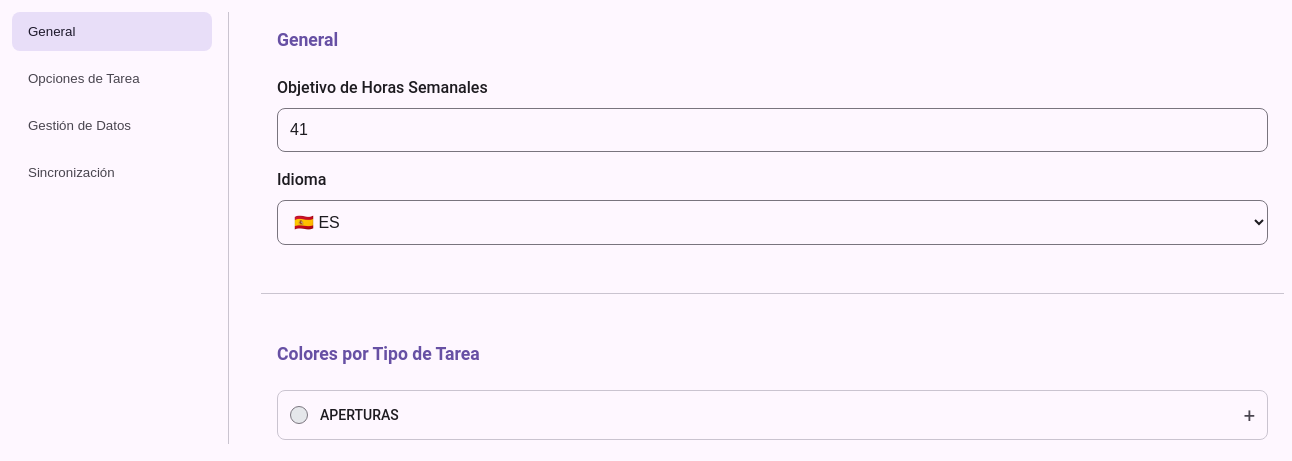
Test: Settings.svelte › should show error for value less than 1
The width and height of the screenshot is (1292, 461).
Replace the text in the number field labelled "Objetivo de Horas Semanales" with "0": {"x": 772, "y": 130} [277, 108, 1268, 152]
(page scrolled)
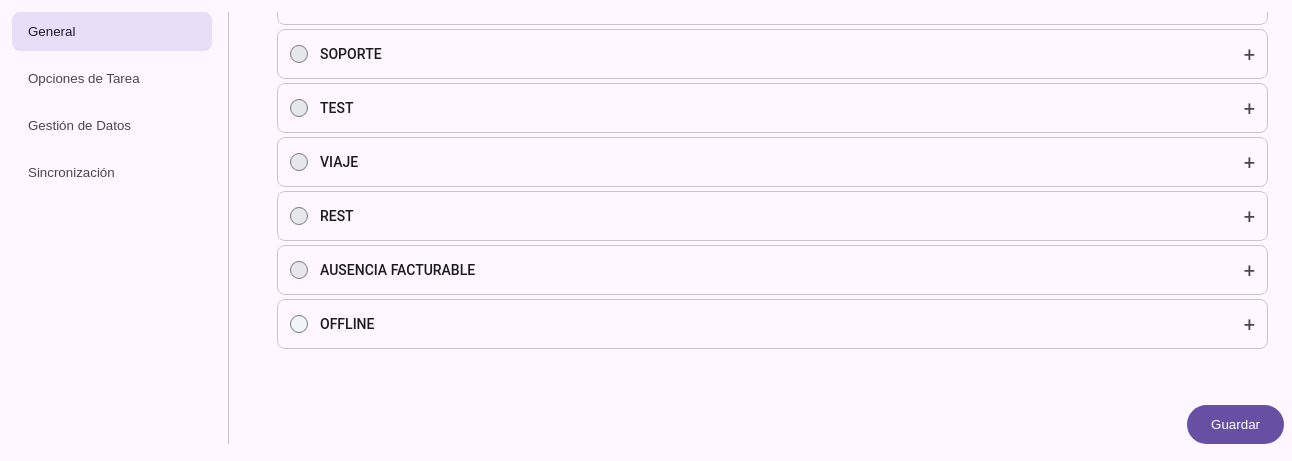
Click the button "Guardar": {"x": 1236, "y": 424} [1187, 405, 1284, 444]
(page scrolled)
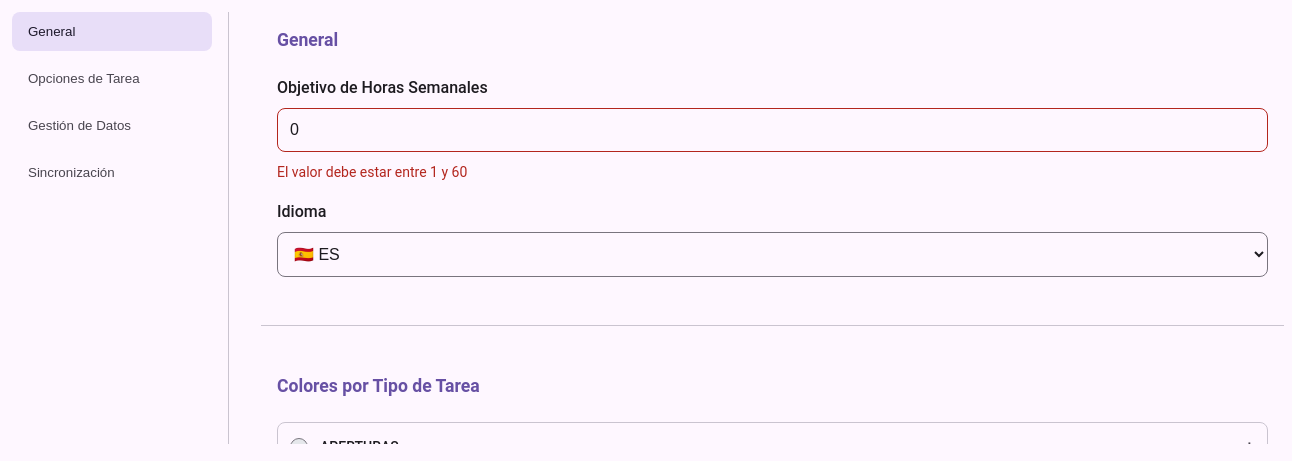
Result: the text "El valor debe estar entre 1 y 60" is shown at [277, 164, 467, 180]
